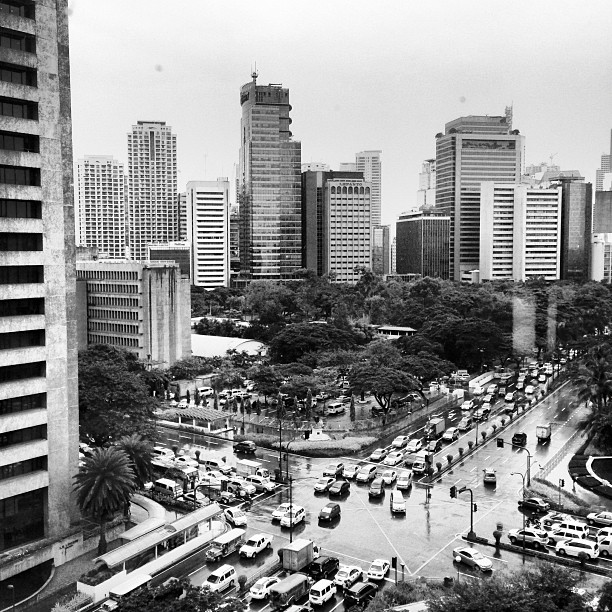building: (1, 1, 102, 559), (234, 86, 306, 288), (436, 115, 519, 282), (72, 268, 190, 367), (488, 179, 564, 285), (307, 165, 371, 290), (128, 119, 180, 265), (77, 157, 124, 263), (392, 215, 459, 281), (189, 182, 232, 284), (350, 149, 390, 227), (562, 176, 589, 279)
car: (274, 488, 309, 531), (232, 529, 272, 562), (385, 488, 413, 528), (313, 492, 341, 532), (325, 469, 354, 505), (507, 427, 527, 458), (478, 462, 499, 489)
sky: (72, 1, 603, 170)
street: (90, 489, 612, 602), (353, 360, 587, 542), (139, 428, 391, 536)
tree: (81, 344, 155, 479)
vegetation: (202, 278, 612, 333), (235, 327, 431, 412)
